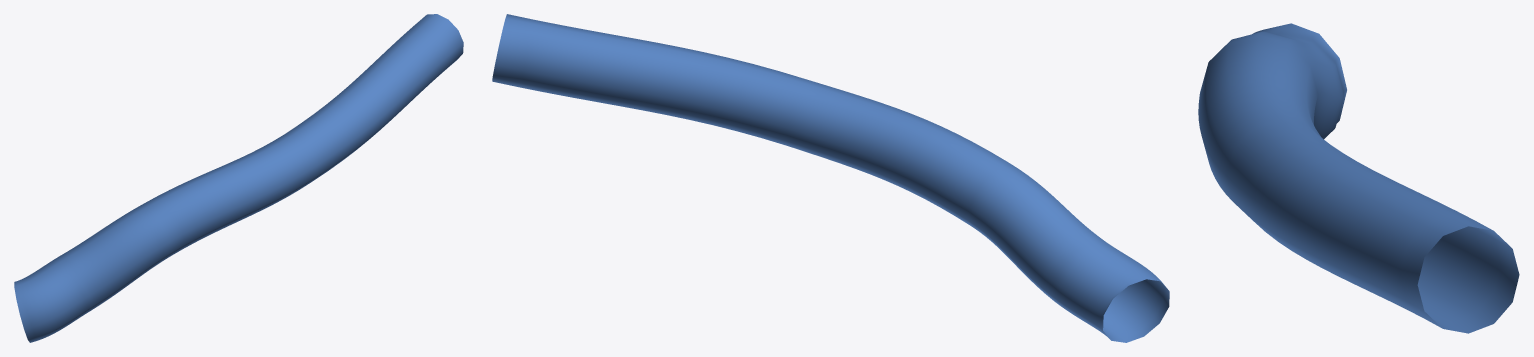
The picture shows the model from 3 angles, left to right: view 1: azimuth 30°, elevation 25°; view 2: azimuth 150°, elevation 25°; view 3: azimuth 270°, elevation 25°; orthographic projection. The views are drawn at different scales.
Visible parts, largest first — view 1: 左锁骨下静脉; view 2: 左锁骨下静脉; view 3: 左锁骨下静脉.
Boxes of the visible parts, x1,y1,x2,y2 form: 左锁骨下静脉: [14, 14, 463, 342]; 左锁骨下静脉: [492, 14, 1169, 342]; 左锁骨下静脉: [1198, 23, 1519, 333].
Size of the model in its own units: 0.1053 by 0.0373 by 0.03.
